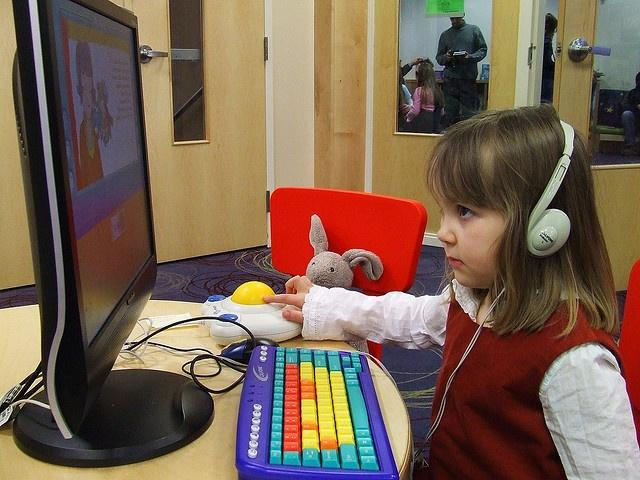AIO PC-Monitor-TV: (9, 0, 157, 440)
